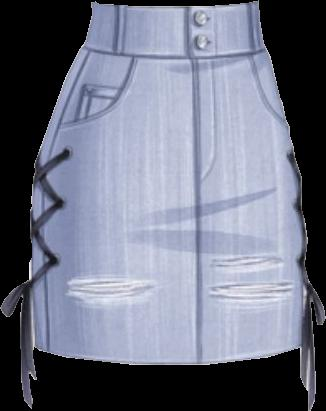Hemline: (21, 339, 312, 367)
Waistline: (80, 45, 269, 60), (91, 0, 258, 9)
